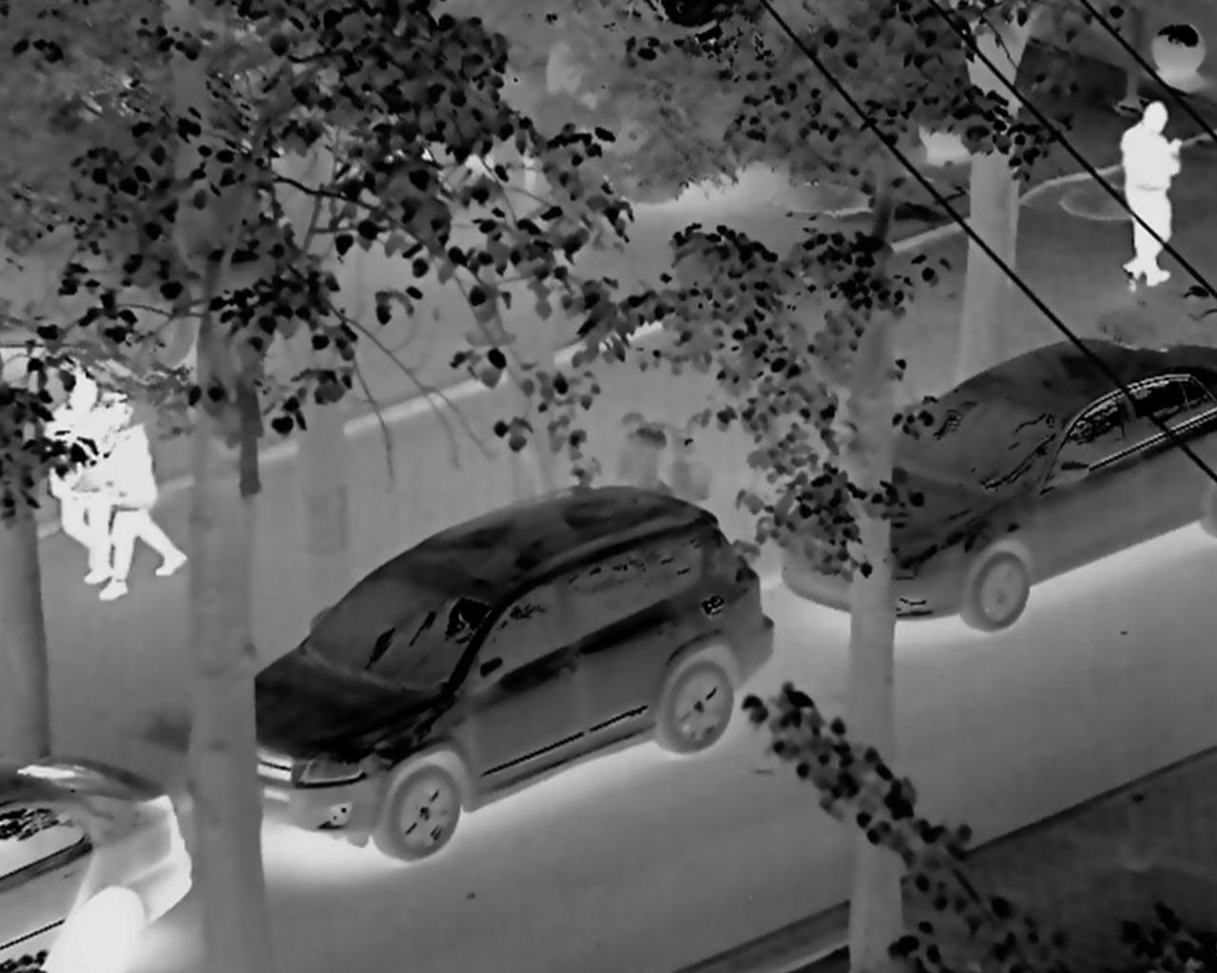person: (91, 402, 193, 615), (34, 358, 110, 594), (1104, 87, 1185, 308)
